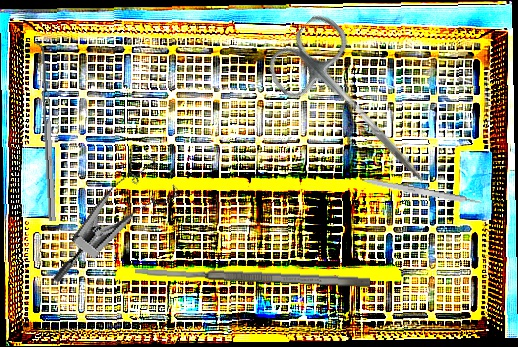Iris Scissors: (259, 8, 457, 208)
Scalpel Handle: (359, 176, 483, 208)
Spatula Surgical: (134, 263, 371, 290), (32, 40, 56, 222)
Speculum: (51, 141, 188, 313)
